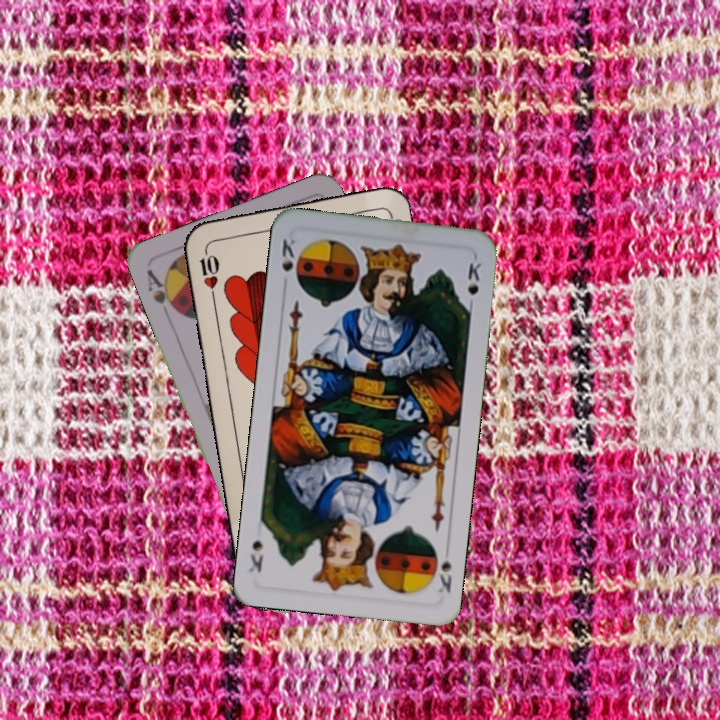H10: (195, 242, 222, 301)
SA: (142, 265, 182, 321)
SK: (277, 235, 298, 275), (434, 554, 454, 596)
